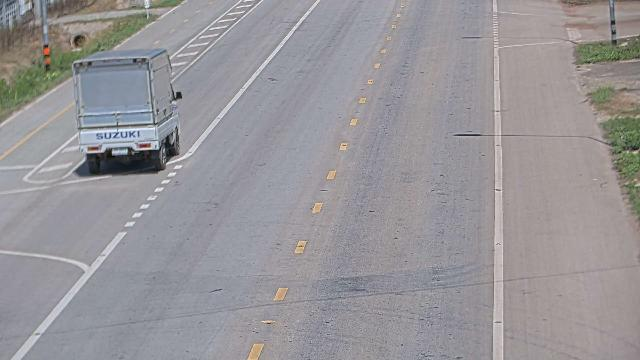pickup-truck: (71, 47, 182, 174)
